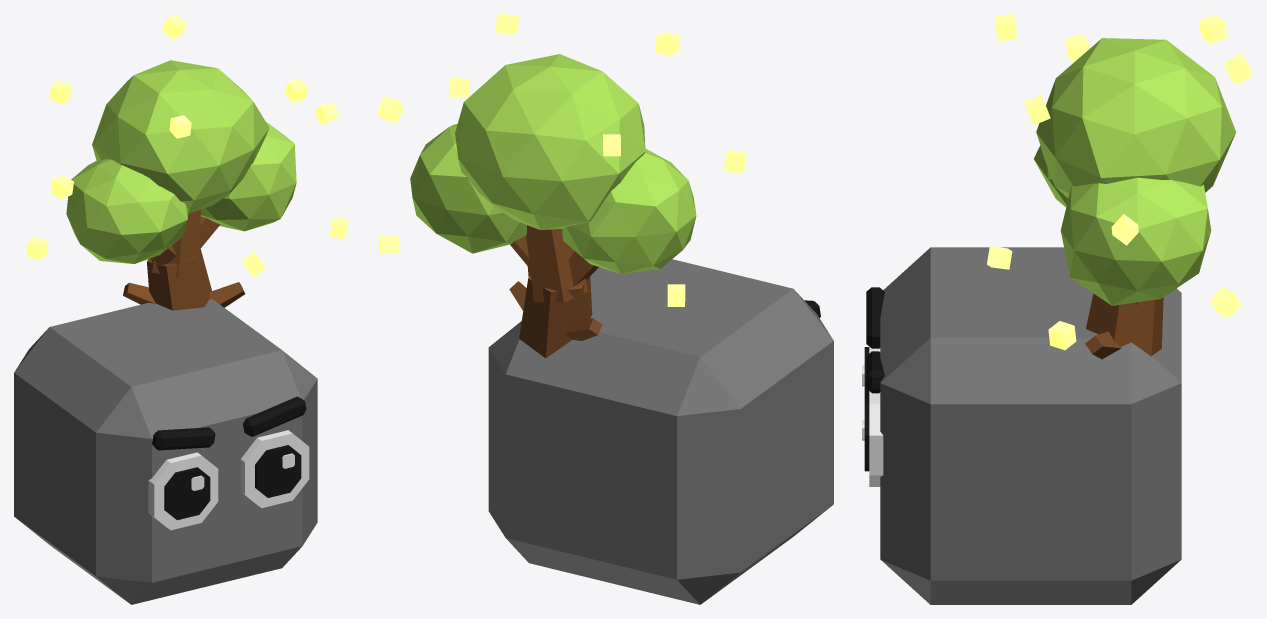
File: Treebo.fbx
3 renders of one model, left to right at view 1: azimuth 30°, elevation 25°; view 2: azimuth 150°, elevation 25°; view 3: azimuth 270°, elevation 25°, orthographic. The views are drawn at different scales.
Parts seen in each view (by area): view 1: Treebo, Treebo_Leaves, Treebo_Trunk, Treebo_Eyes, Treebo_Pupils, Treebo_Fireflies, Treebo_Brows; view 2: Treebo, Treebo_Leaves, Treebo_Trunk, Treebo_Fireflies; view 3: Treebo, Treebo_Leaves, Treebo_Fireflies, Treebo_Trunk, Treebo_Brows, Treebo_Eyes, Treebo_Pupils.
Boxes of the visible parts, <box> form: Treebo: <box>14,299,317,604</box>; Treebo_Leaves: <box>66,60,296,263</box>; Treebo_Trunk: <box>123,209,245,310</box>; Treebo_Eyes: <box>148,430,309,530</box>; Treebo_Pupils: <box>164,445,301,520</box>; Treebo_Fireflies: <box>26,14,348,277</box>; Treebo_Brows: <box>152,396,306,450</box>; Treebo: <box>488,259,833,604</box>; Treebo_Leaves: <box>410,54,696,273</box>; Treebo_Trunk: <box>509,225,602,358</box>; Treebo_Fireflies: <box>377,14,745,306</box>; Treebo: <box>880,247,1181,604</box>; Treebo_Leaves: <box>1034,38,1236,305</box>; Treebo_Fireflies: <box>987,14,1252,350</box>; Treebo_Trunk: <box>1085,293,1163,359</box>; Treebo_Brows: <box>866,287,884,393</box>; Treebo_Eyes: <box>862,347,883,486</box>; Treebo_Pupils: <box>864,347,869,471</box>.
Size of the model in its own units: 2.86 by 3.92 by 2.49.
